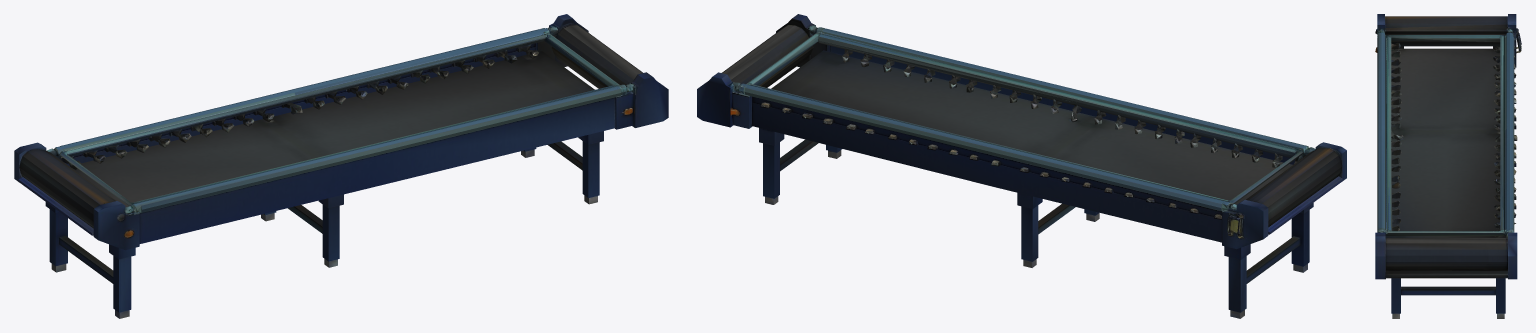
File: conveyor-deck.glb
The picture shows the model from 3 angles, left to right: view 1: azimuth 30°, elevation 25°; view 2: azimuth 150°, elevation 25°; view 3: azimuth 270°, elevation 25°; orthographic projection. The views are drawn at different scales.
Visible parts, largest first — view 1: tripo_node_e658b572-9446-4b4f-85fc-25dd22cd5d04; view 2: tripo_node_e658b572-9446-4b4f-85fc-25dd22cd5d04; view 3: tripo_node_e658b572-9446-4b4f-85fc-25dd22cd5d04.
Part boxes in pixels (x1,y1,x2,y2): tripo_node_e658b572-9446-4b4f-85fc-25dd22cd5d04: (14, 14, 668, 318); tripo_node_e658b572-9446-4b4f-85fc-25dd22cd5d04: (697, 14, 1346, 318); tripo_node_e658b572-9446-4b4f-85fc-25dd22cd5d04: (1375, 14, 1521, 318).
Bounding box in the file's own units: 0.998 × 0.2051 × 0.2676.
Materials: 1 (1 with a texture image).
